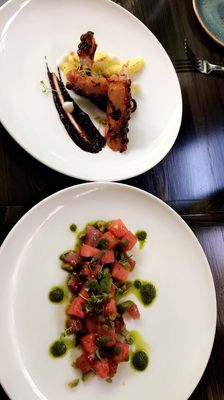curry: (116, 279, 158, 308)
sushi: (0, 181, 218, 399)
